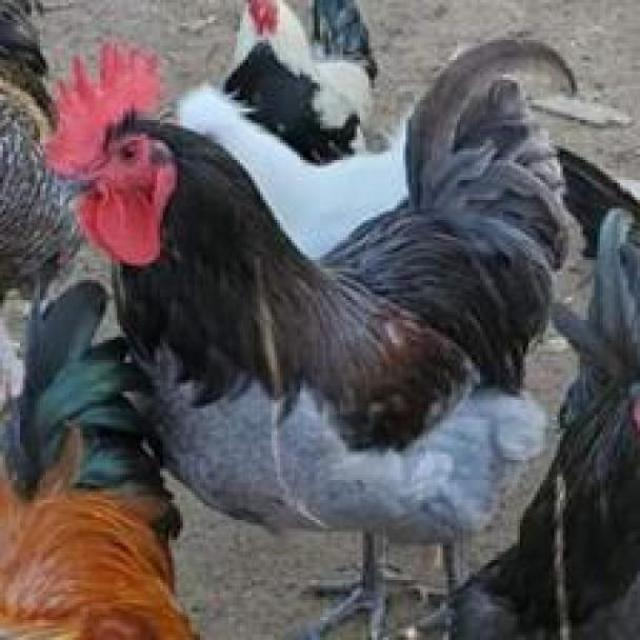Chicken: (63, 47, 565, 640)
